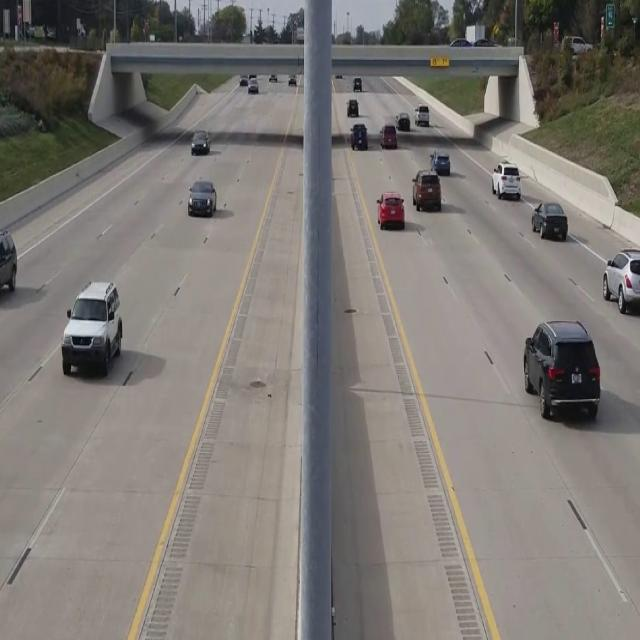car: (524, 319, 600, 419), (61, 279, 122, 376), (601, 247, 640, 316), (532, 200, 567, 240), (0, 228, 17, 306), (412, 170, 441, 211), (492, 162, 521, 200), (376, 192, 405, 229), (188, 180, 216, 217), (190, 130, 210, 154), (350, 122, 367, 150)
